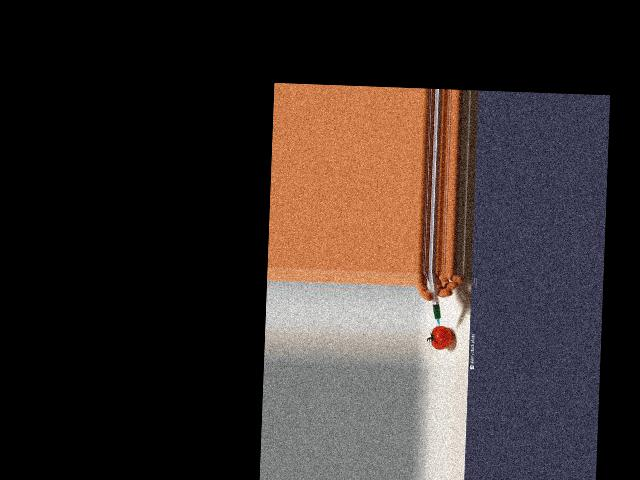tomato: (431, 325, 453, 349)
